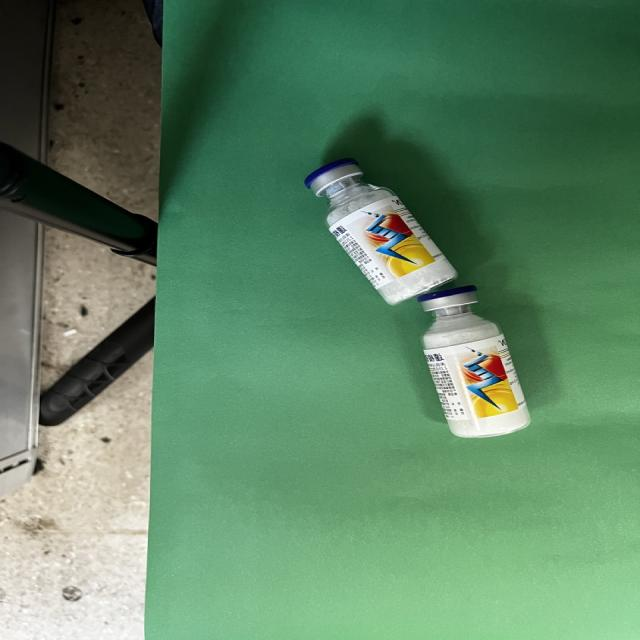Vials: (303, 157, 459, 305), (417, 284, 531, 437)
